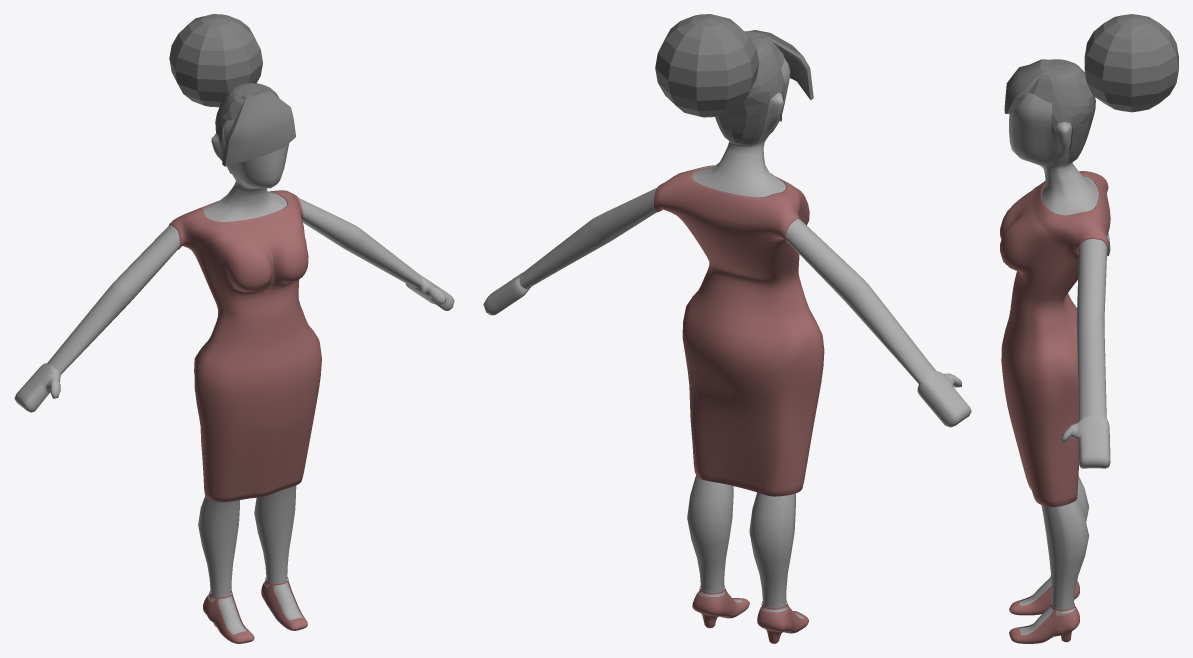
The model's file is CassieThePreppy.fbx.
3 renders of one model, left to right at view 1: azimuth 30°, elevation 25°; view 2: azimuth 150°, elevation 25°; view 3: azimuth 270°, elevation 25°, orthographic. The views are drawn at different scales.
Visible parts, largest first — view 1: polySurface5, polySurface6, polySurface11, polySurface7, polySurface8; view 2: polySurface5, polySurface6, polySurface11, polySurface8, polySurface7; view 3: polySurface5, polySurface6, polySurface11, polySurface8, polySurface7.
Part boxes in pixels (x1,y1,x2,y2): polySurface5: (168, 190, 321, 502); polySurface6: (14, 120, 454, 639); polySurface11: (169, 14, 295, 173); polySurface7: (203, 591, 254, 643); polySurface8: (261, 577, 307, 630); polySurface5: (653, 165, 824, 496); polySurface6: (483, 57, 971, 631); polySurface11: (655, 14, 813, 143); polySurface8: (692, 586, 749, 628); polySurface7: (757, 601, 808, 643); polySurface5: (1000, 171, 1110, 506); polySurface6: (1009, 92, 1110, 641); polySurface11: (1004, 14, 1178, 163); polySurface8: (1009, 602, 1079, 643); polySurface7: (1009, 575, 1079, 615).
Bounding box in the file's own units: 4.22 × 5.41 × 1.44.
